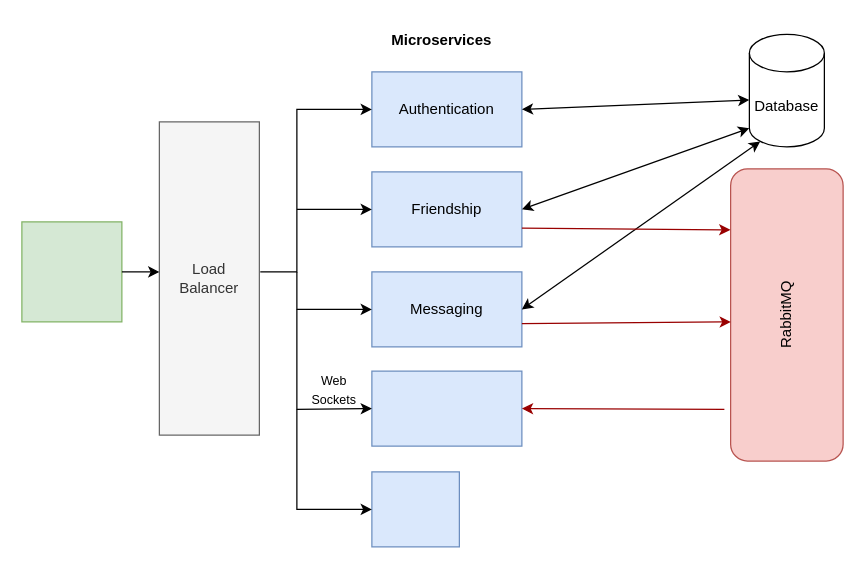
Some shapes in this 865 by 569 pixel diagram are drawn without their labels. Each missing label, with the centre of its shape:
Frontend: [71,271]
Notification: [446,408]
Static Resource Provider: [415,509]
